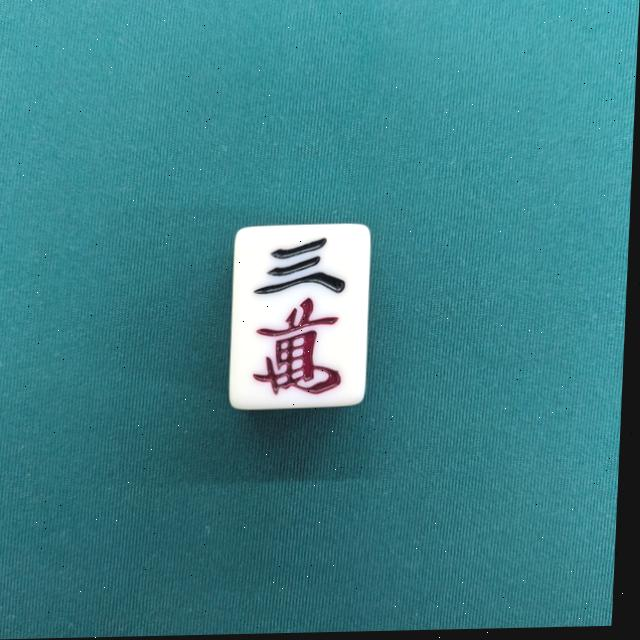3m: (229, 222, 380, 411)
